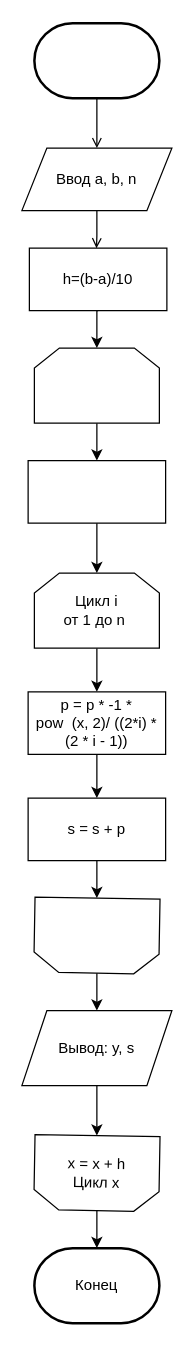
Image size: 194x1345. Some labels were removed from this diagram. The centre of each missing label's shape, as x and y in pixels:
"i = i +1 Цикл i" belongs at (96,935).
"p = s = 1" belongs at (96,491).
"Вход" belongs at (96,60).
"Цикл x от 1 до b" belongs at (96,385).
